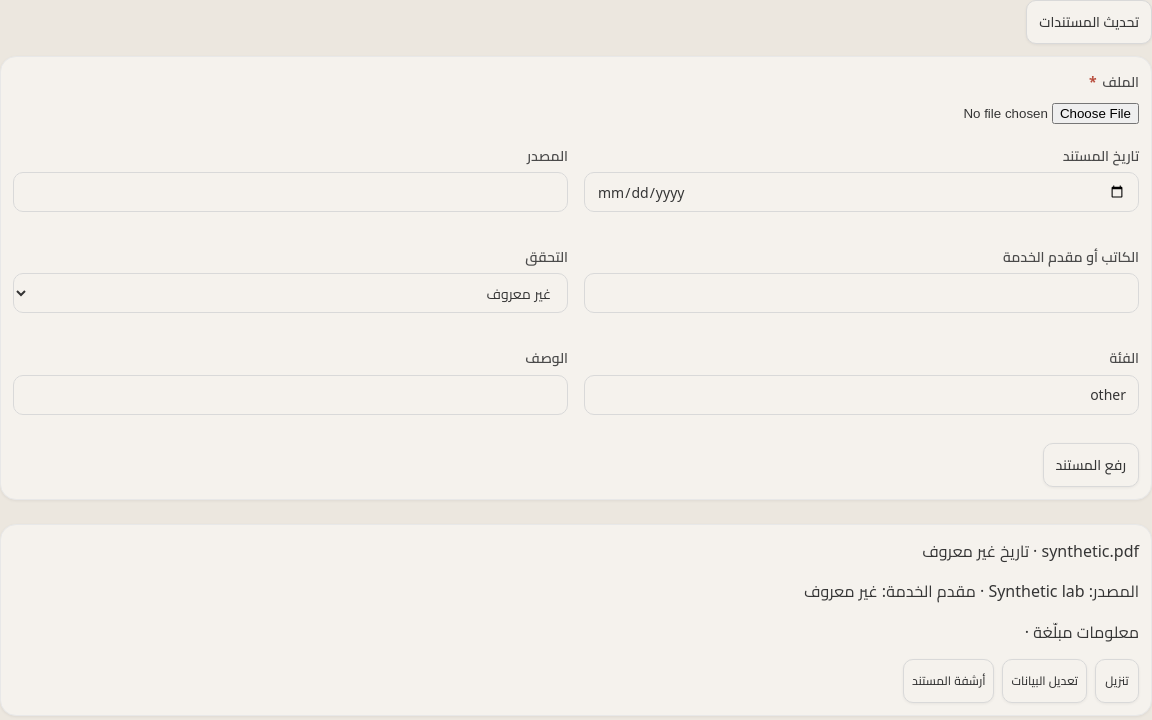
document metadata and archive › rejected metadata save keeps the selected document available for correction
Click the button "تعديل البيانات" at (1045, 681), box [1002, 659, 1087, 703]
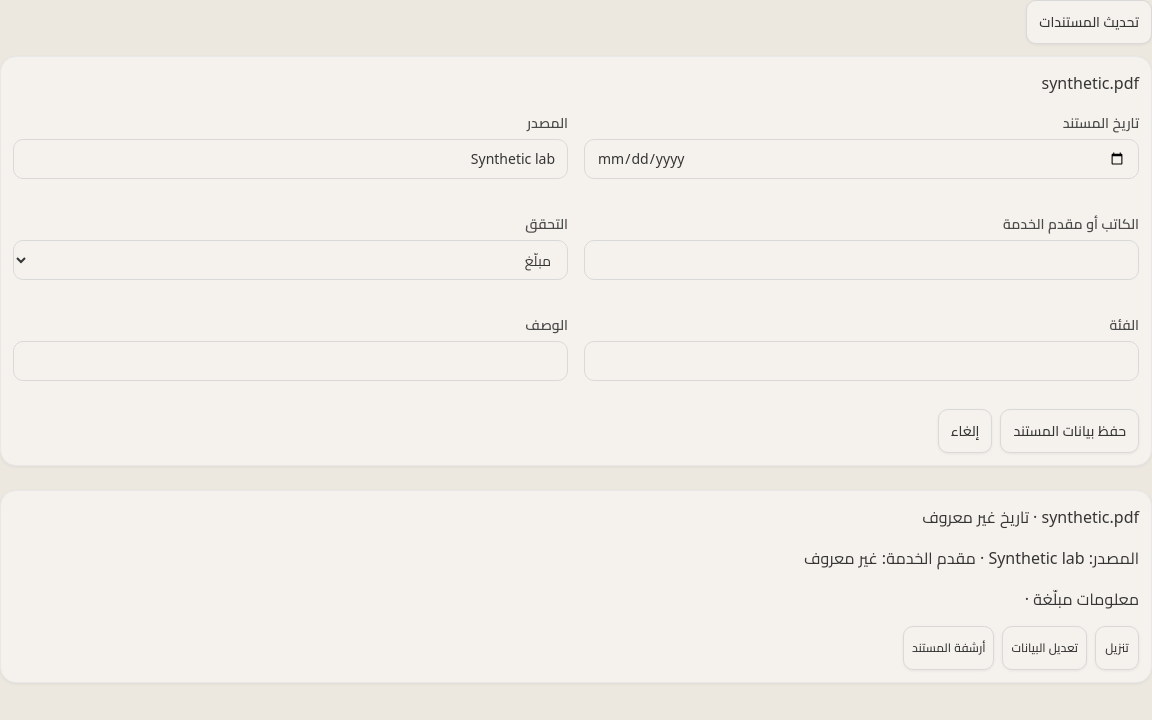
Submit the form, box [0, 56, 1151, 466]
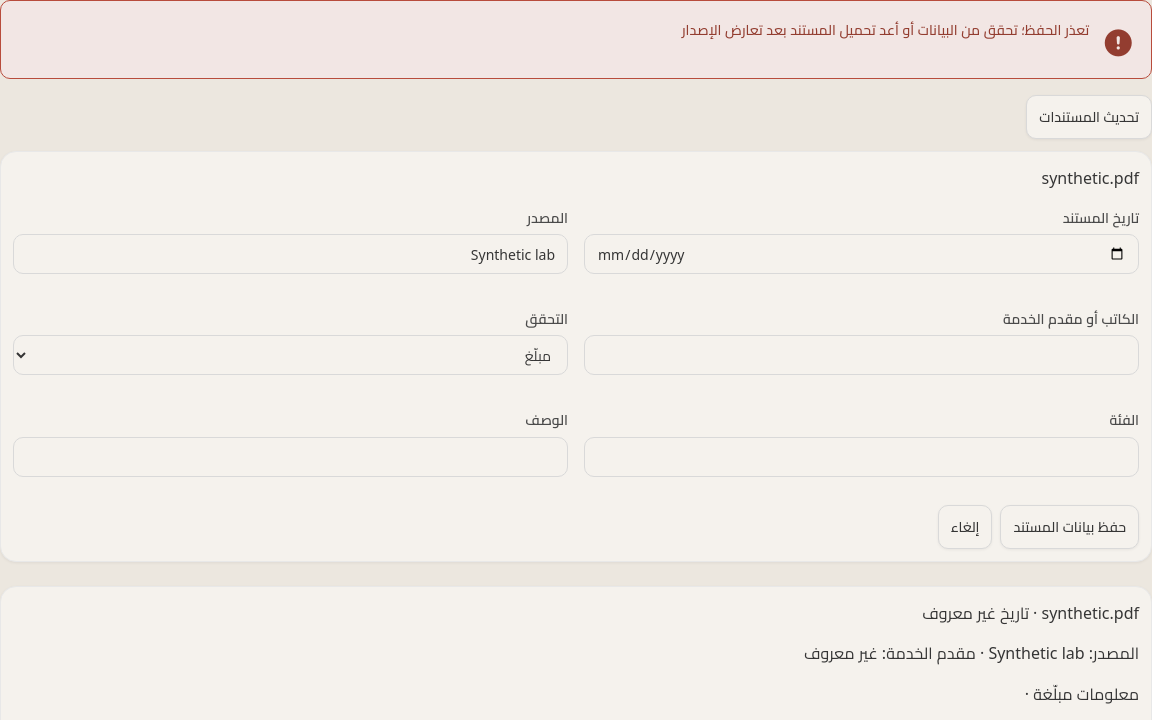
Expected: the form shows "synthetic.pdf", [1042, 167, 1139, 189]
Expected: the text "تعارض الإصدار" is shown, [682, 20, 1089, 39]
